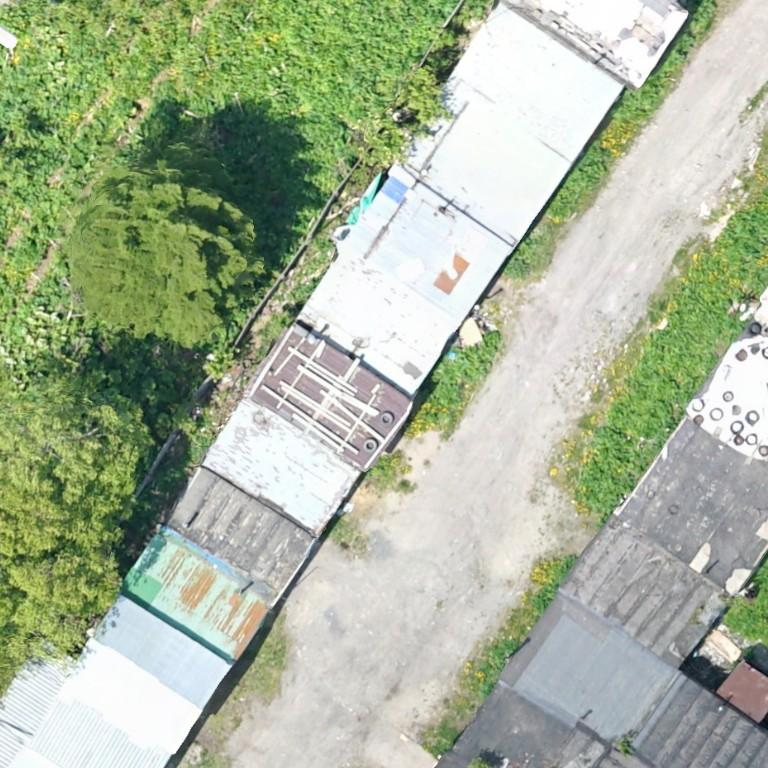hogweed: (157, 0, 460, 272), (578, 209, 767, 528), (611, 0, 715, 123), (0, 6, 109, 115), (428, 331, 498, 408), (547, 140, 606, 218), (532, 556, 576, 614)
